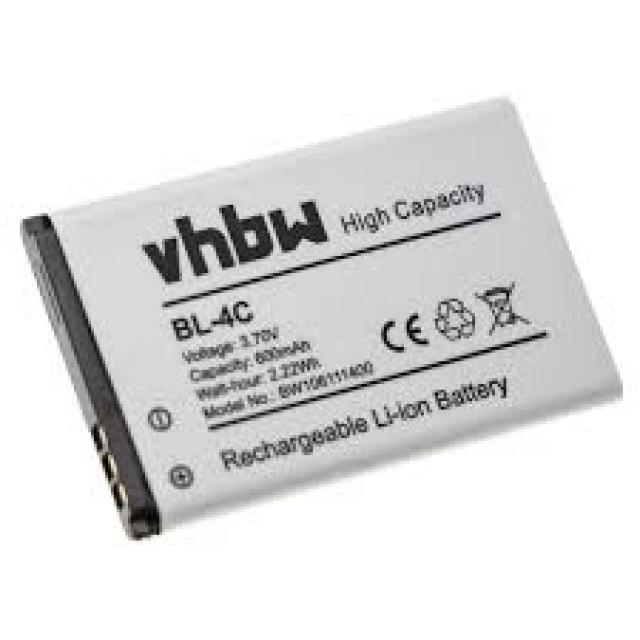battery: (15, 96, 622, 547)
